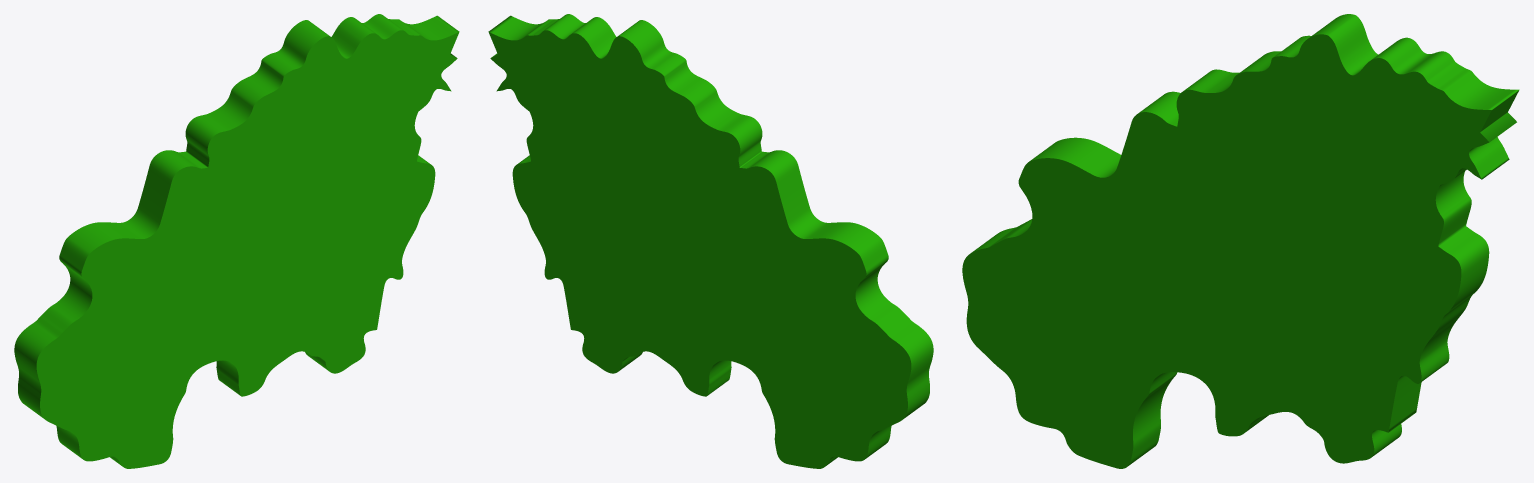
Rendered from semberijamap.glb.
The picture shows the model from 3 angles, left to right: view 1: azimuth 30°, elevation 25°; view 2: azimuth 150°, elevation 25°; view 3: azimuth 330°, elevation 25°; orthographic projection. The views are drawn at different scales.
Visible parts, largest first — view 1: Curve; view 2: Curve; view 3: Curve.
Boxes of the visible parts, x1,y1,x2,y2 form: Curve: [14, 14, 459, 468]; Curve: [488, 14, 933, 468]; Curve: [962, 14, 1519, 468].
Size of the model in its own units: 0.2204 by 0.1928 by 0.02.
